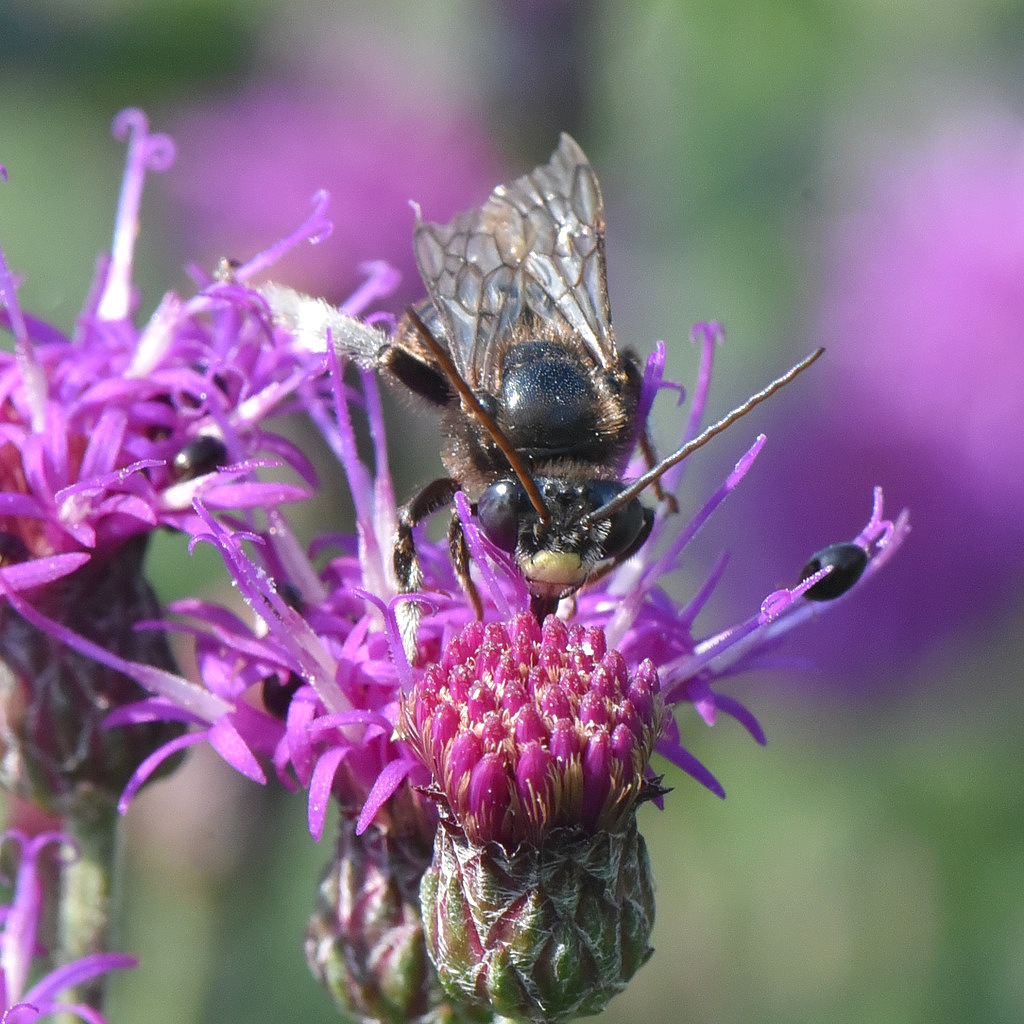not_bumblebee: (259, 129, 829, 602)
